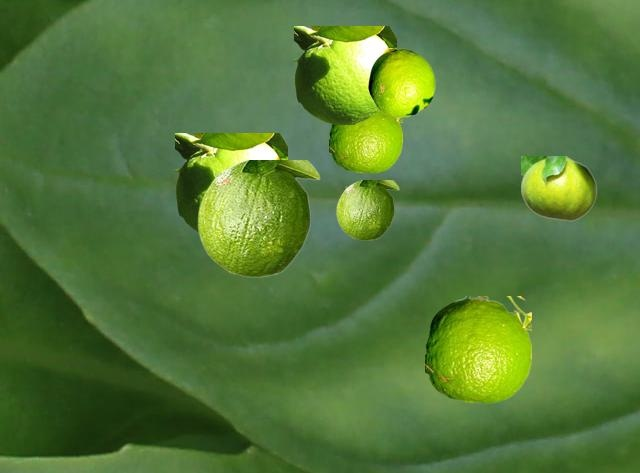dalandan: (197, 160, 319, 276), (425, 296, 530, 402), (175, 133, 286, 232), (294, 26, 395, 123), (521, 156, 596, 220), (368, 48, 434, 116), (329, 112, 401, 172), (336, 180, 398, 239)
